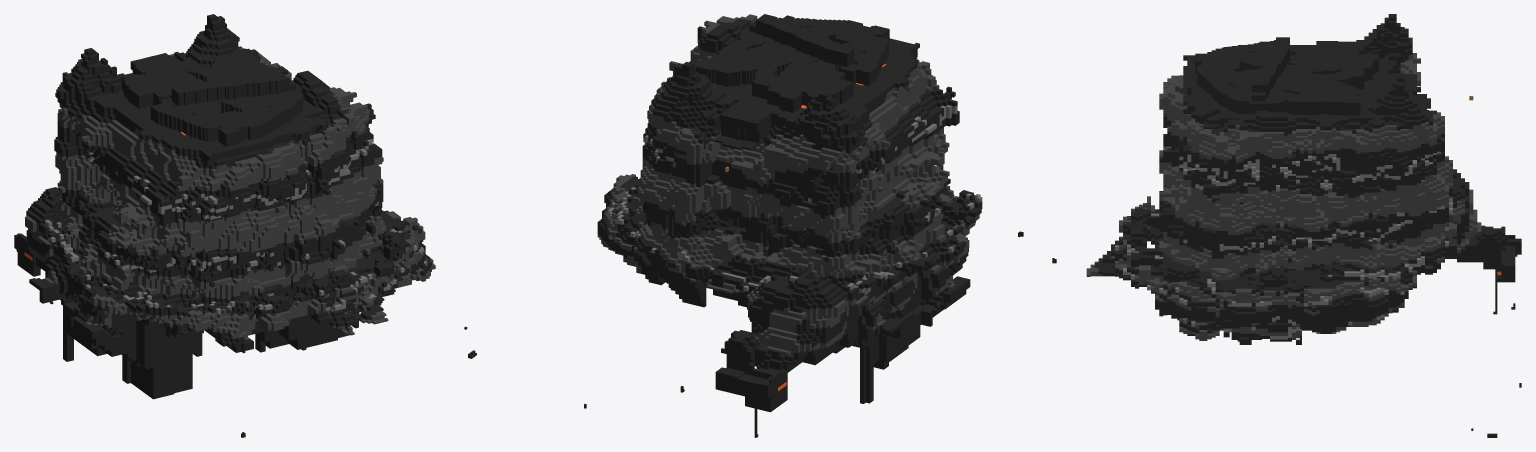
Rendered from Mainpart_lava_vox-1.obj.
3 renders of one model, left to right at view 1: azimuth 30°, elevation 25°; view 2: azimuth 150°, elevation 25°; view 3: azimuth 270°, elevation 25°, orthographic. The views are drawn at different scales.
Size of the model in its own units: 21.3 by 16 by 23.3.
Materials: 1 (1 with a texture image).
